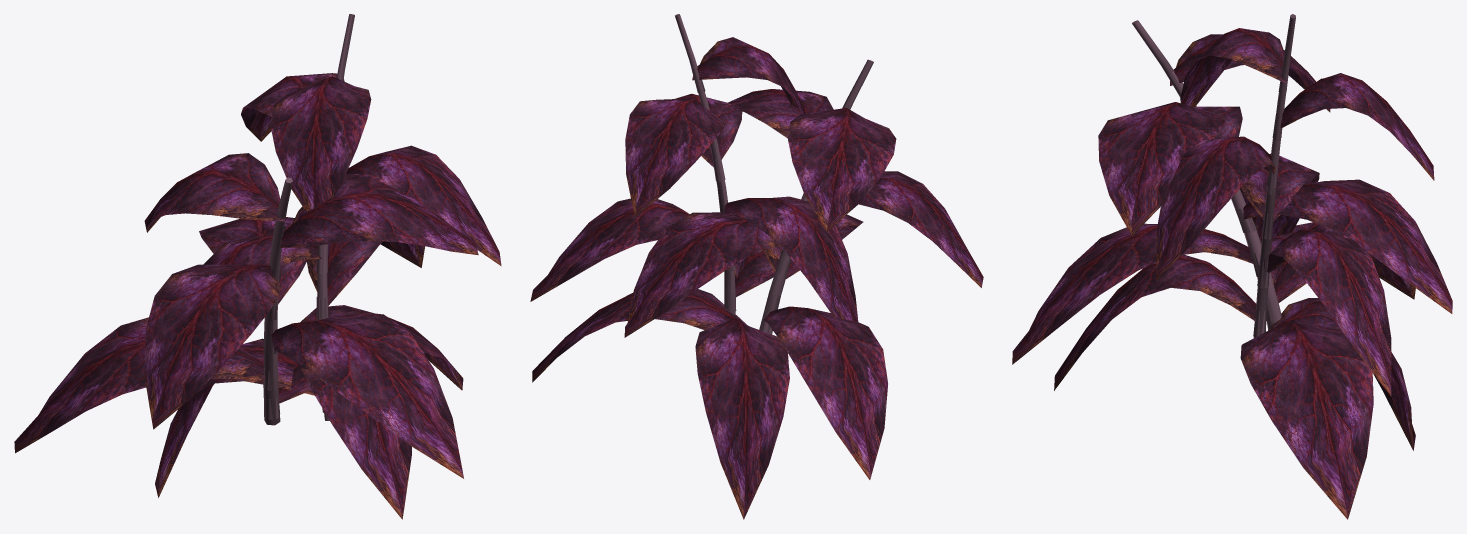
Rendered from broadgrass_00.glb.
3 views of the same model, side by side, from view 1: azimuth 30°, elevation 25°; view 2: azimuth 150°, elevation 25°; view 3: azimuth 270°, elevation 25° (orthographic). The views are drawn at different scales.
Parts seen in each view (by area): view 1: export; view 2: export; view 3: export.
Part boxes in pixels (<box>): export: <box>14,14,501,519</box>; export: <box>530,14,983,519</box>; export: <box>1012,14,1452,519</box>.
Size of the model in its own units: 0.7857 by 0.8931 by 0.7096.
Materials: 2 (2 with a texture image).
